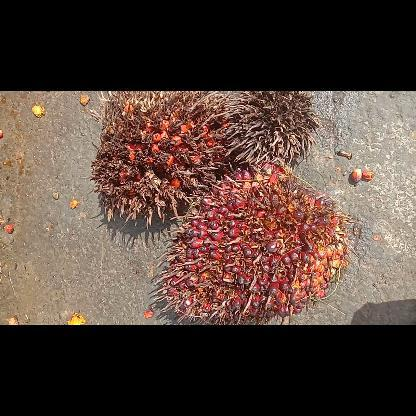Janjang kosong: (221, 91, 319, 165)
TBS masak: (153, 162, 359, 324)
Terlalu masak: (87, 91, 229, 227)
